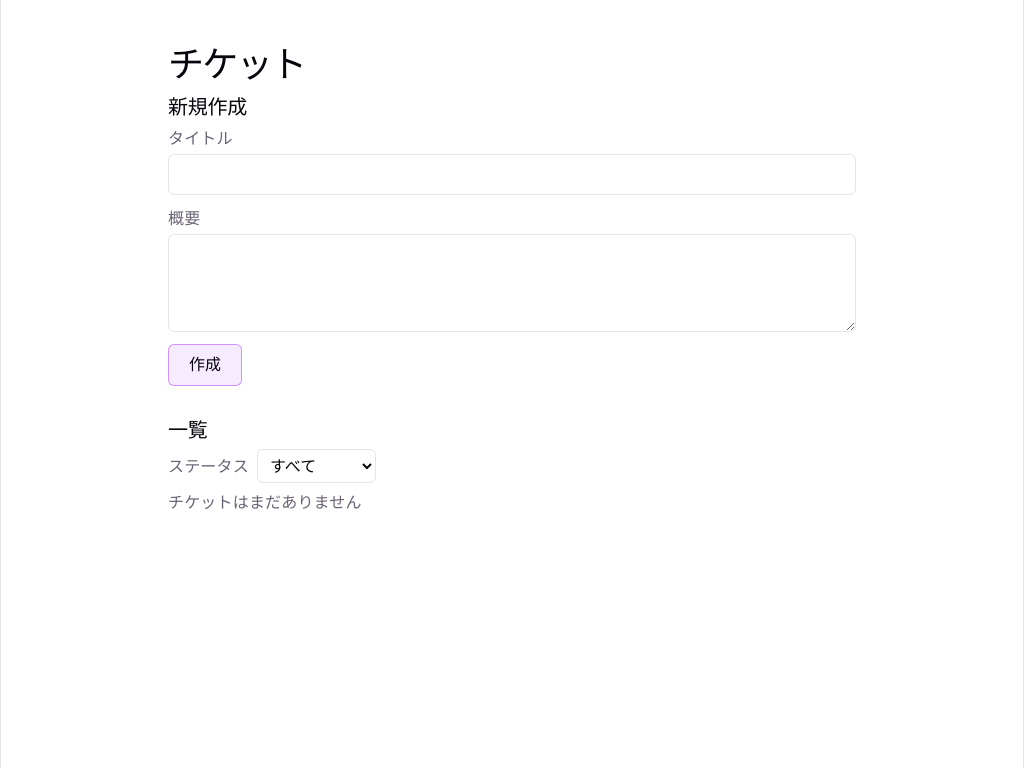
一覧の不明点の残数 › 作成したばかりのチケットは「不明点なし」と表示する
Expected: the text "チケットはまだありません" is shown, [168,491,362,513]
In the field labelled "タイトル": coordinates (512, 175) [168,154,856,195], type "新しいチケット"
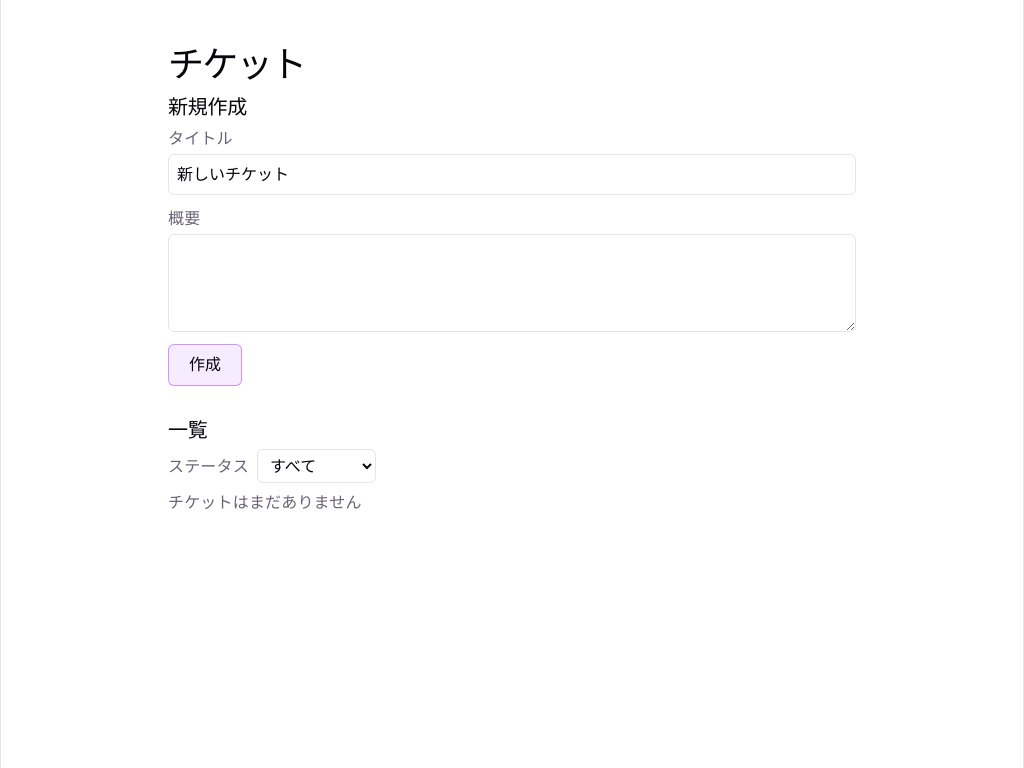
Click the button "作成": coordinates (205, 365) [168,344,242,386]
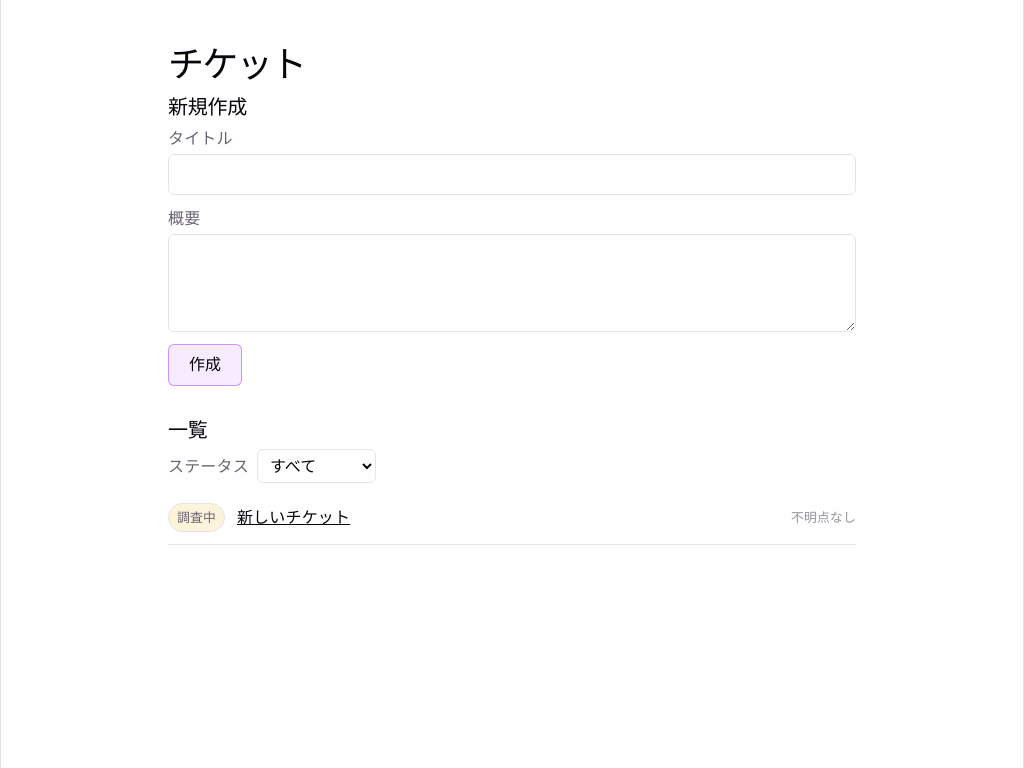
Expected: the list item shows "不明点なし", [791,508,856,526]
